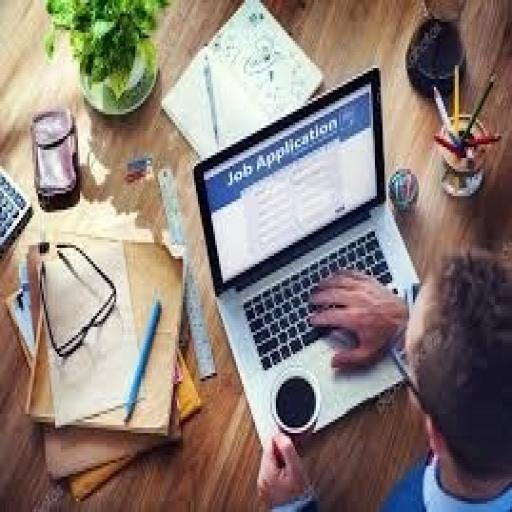using_laptop: (190, 62, 422, 454)
